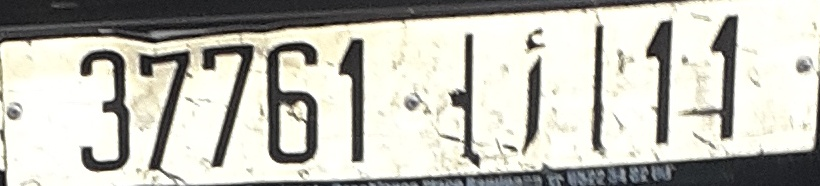1: (641, 14, 677, 146), (705, 15, 742, 143), (337, 35, 372, 160)
3: (76, 46, 131, 174)
6: (264, 40, 321, 163)
7: (197, 44, 255, 170), (135, 52, 193, 171)
a: (516, 26, 547, 153)
